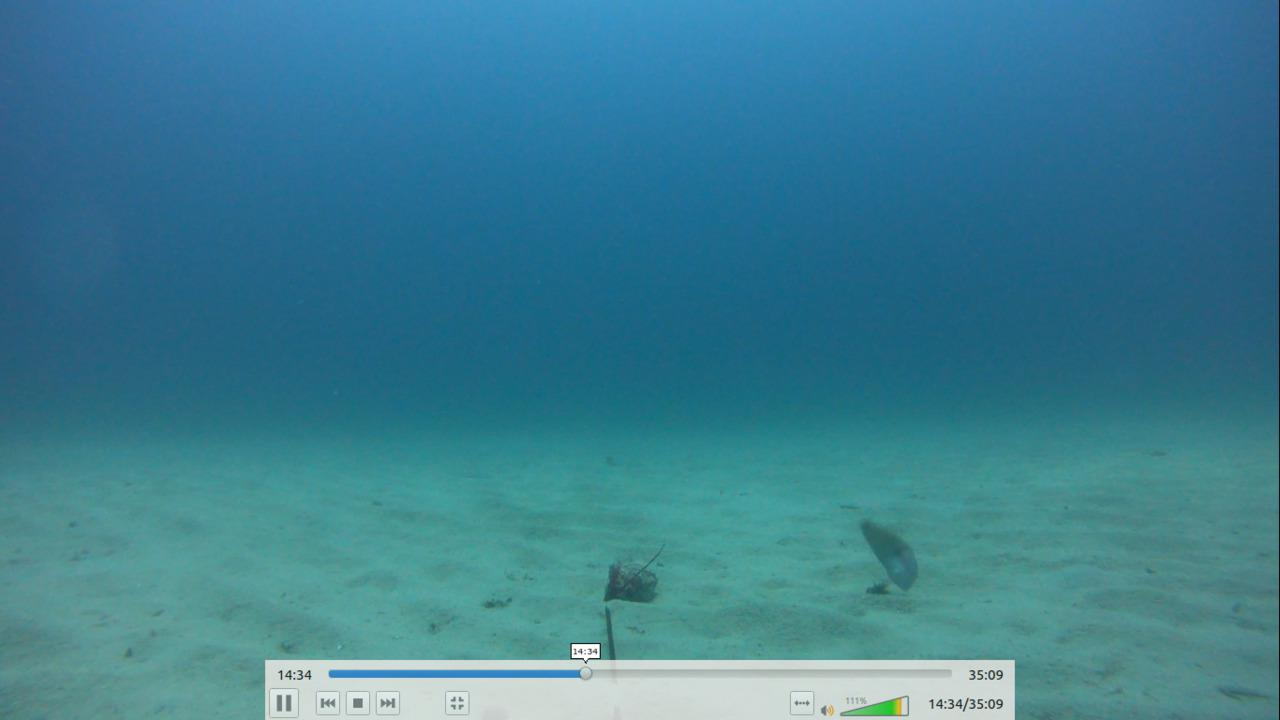raor: (850, 512, 923, 593)
